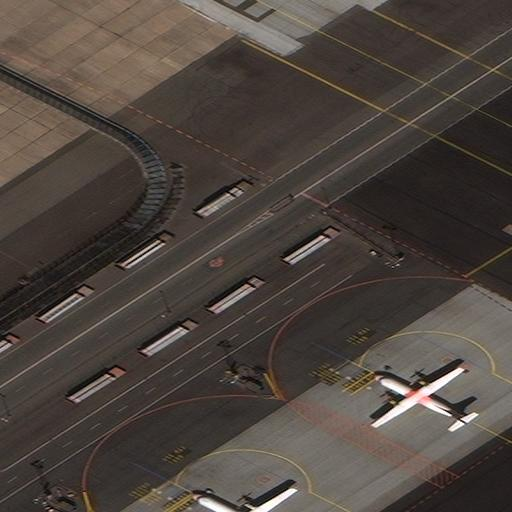Medium Civil Transport: (369, 366, 468, 425), (190, 484, 297, 512)
